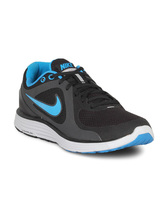shoes: (12, 58, 156, 156)
